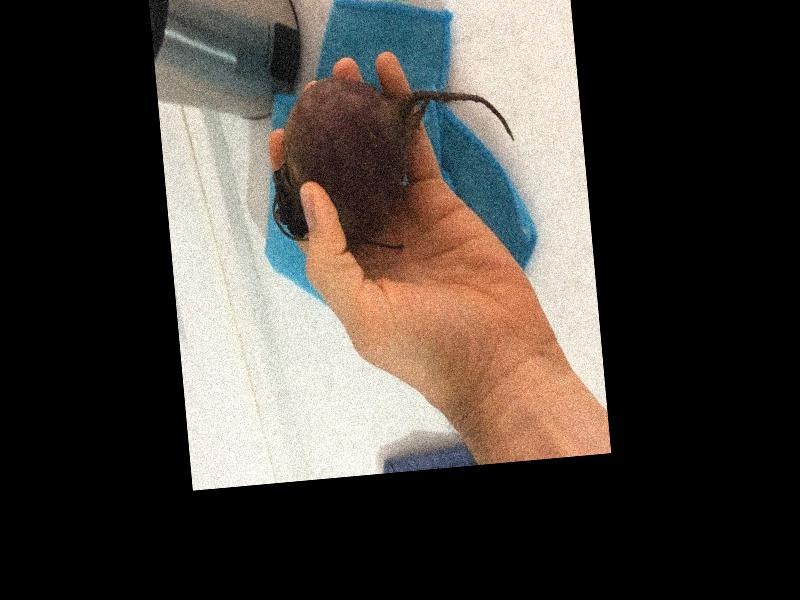Beet: (262, 62, 522, 258)
